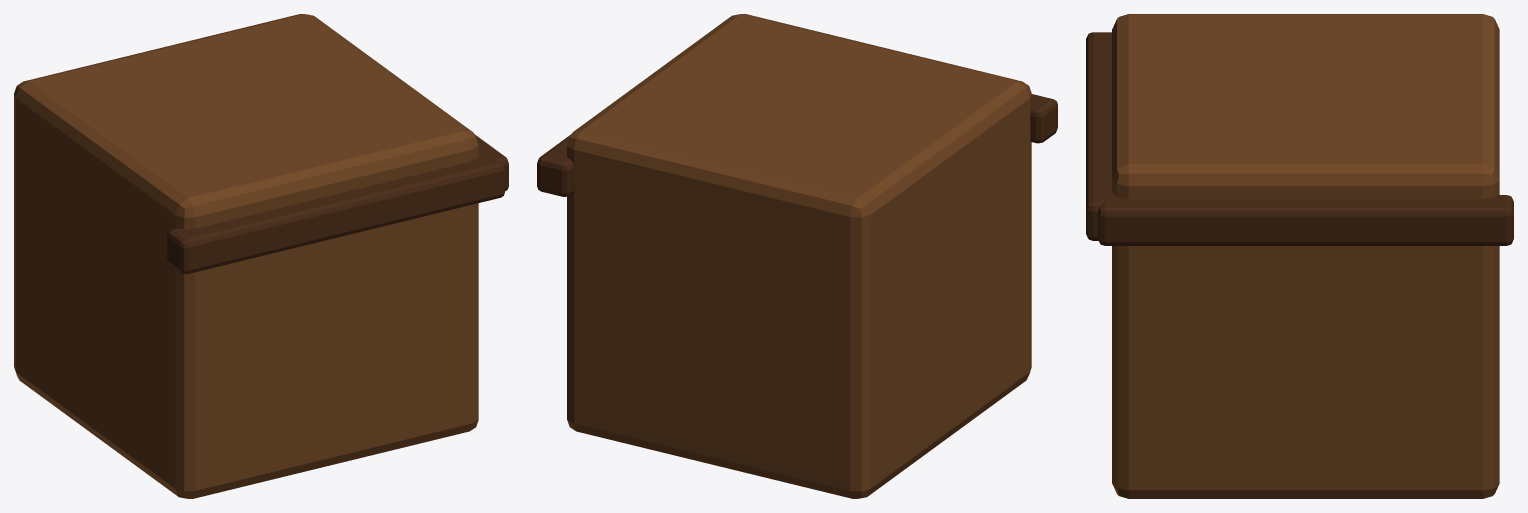
File: crate_destructible_LOD1.glb
3 views of the same model, side by side, from view 1: azimuth 30°, elevation 25°; view 2: azimuth 150°, elevation 25°; view 3: azimuth 270°, elevation 25° (orthographic). The views are drawn at different scales.
Parts seen in each view (by area): view 1: LOD1_CrateBody, LOD1_CrateRailX, LOD1_CrateRailY; view 2: LOD1_CrateBody, LOD1_CrateRailY, LOD1_CrateRailX; view 3: LOD1_CrateBody, LOD1_CrateRailY, LOD1_CrateRailX.
Boxes of the visible parts, left/top/right/bottom form: LOD1_CrateBody: left=14, top=14, right=478, bottom=498; LOD1_CrateRailX: left=166, top=153, right=504, bottom=273; LOD1_CrateRailY: left=474, top=134, right=508, bottom=191; LOD1_CrateBody: left=567, top=14, right=1031, bottom=498; LOD1_CrateRailY: left=537, top=134, right=573, bottom=196; LOD1_CrateRailX: left=1030, top=94, right=1057, bottom=143; LOD1_CrateBody: left=1112, top=14, right=1499, bottom=498; LOD1_CrateRailY: left=1098, top=195, right=1513, bottom=245; LOD1_CrateRailX: left=1086, top=32, right=1114, bottom=240.
Bounding box in the file's own units: 0.905 × 0.78 × 0.905.
